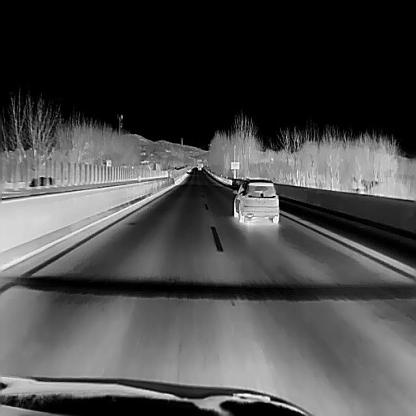car: (232, 176, 278, 224), (28, 176, 53, 186)
truck: (197, 161, 201, 169)
